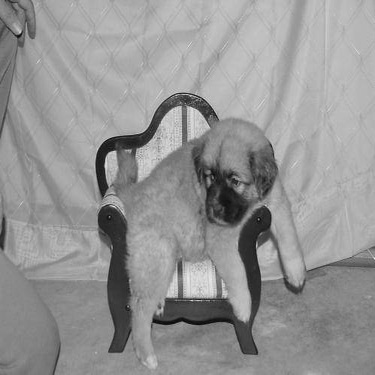dog: (90, 110, 310, 371)
